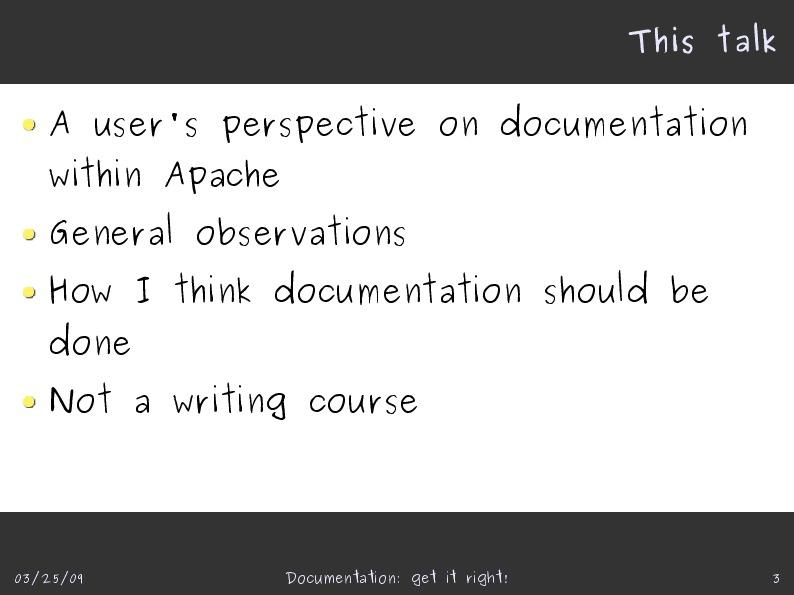paragraph: (13, 91, 768, 478)
title: (623, 18, 792, 81)
